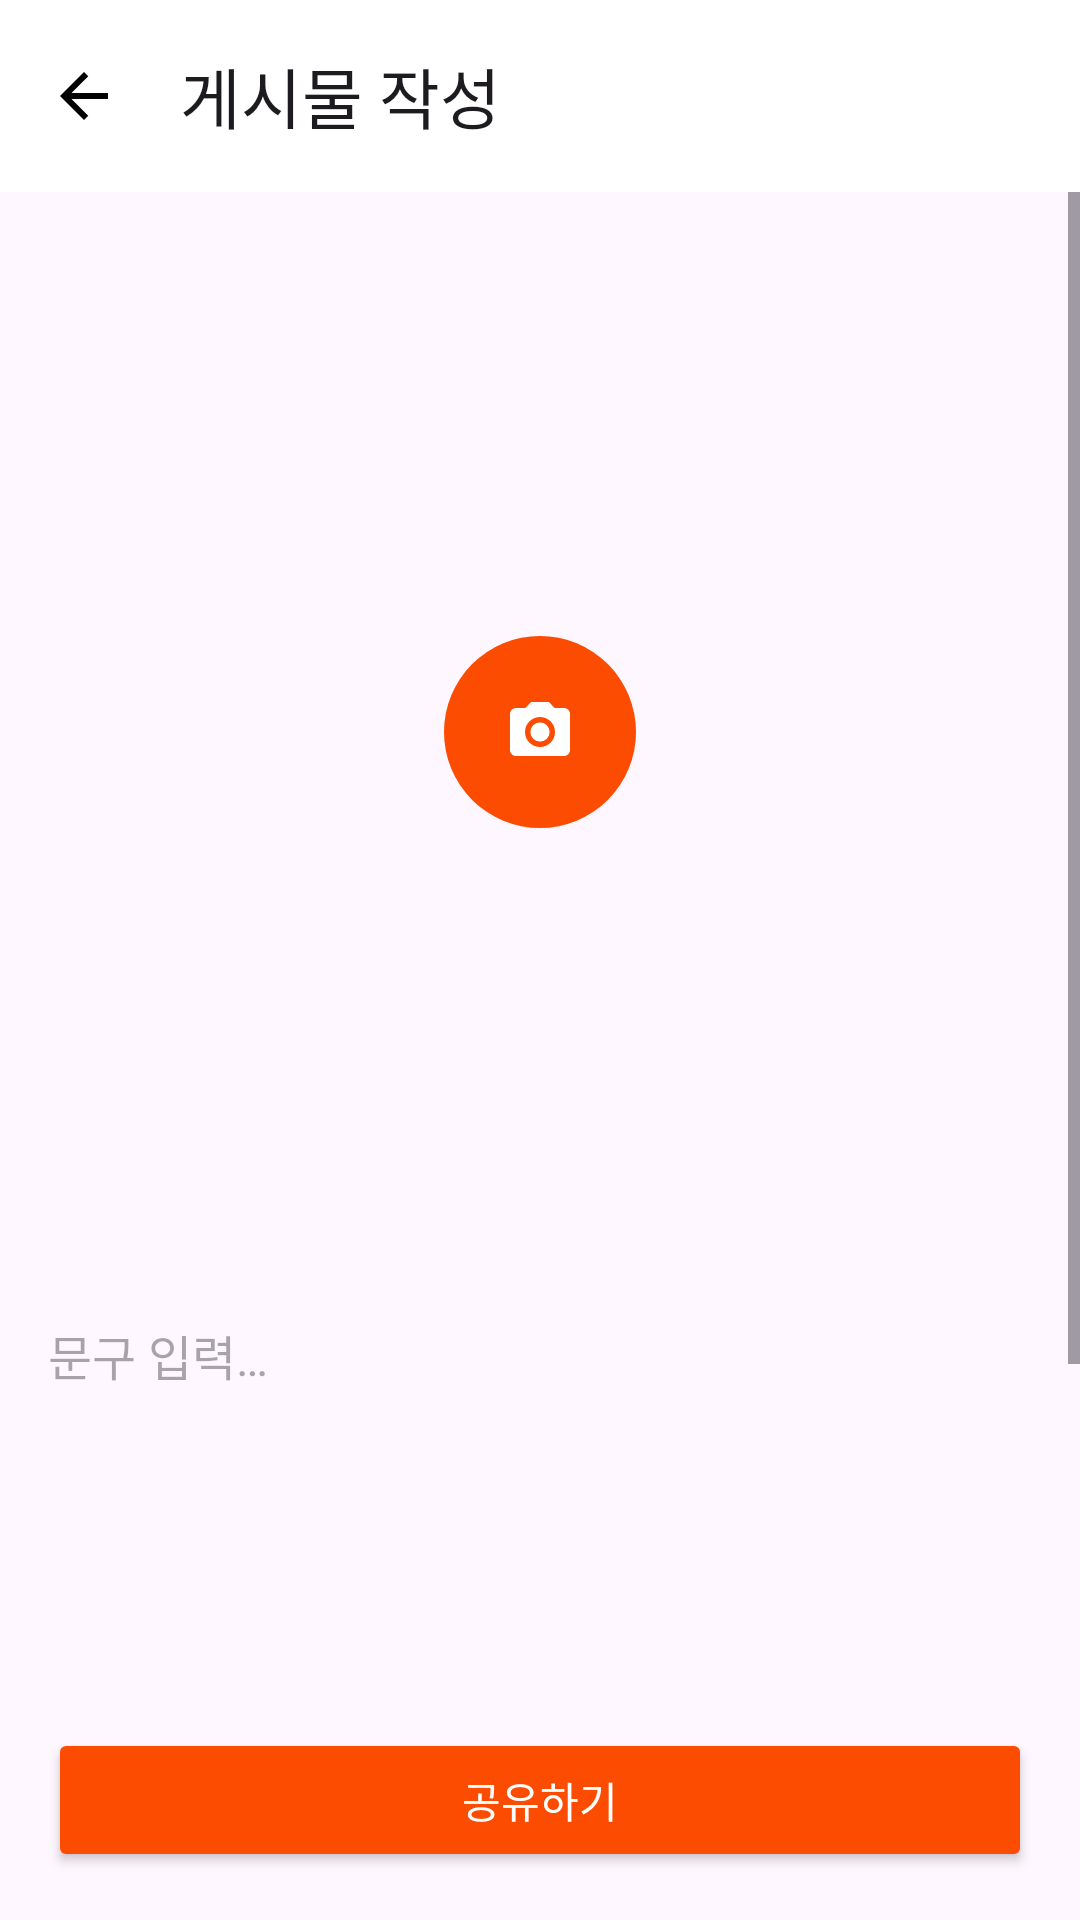

Locate icon controls on the screen. Image size 1080 x 1920, boxes as {"x1": x1, "y1": y1, "x2": x2, "y2": y2}.
사진 업로드: {"x1": 444, "y1": 636, "x2": 636, "y2": 828}
